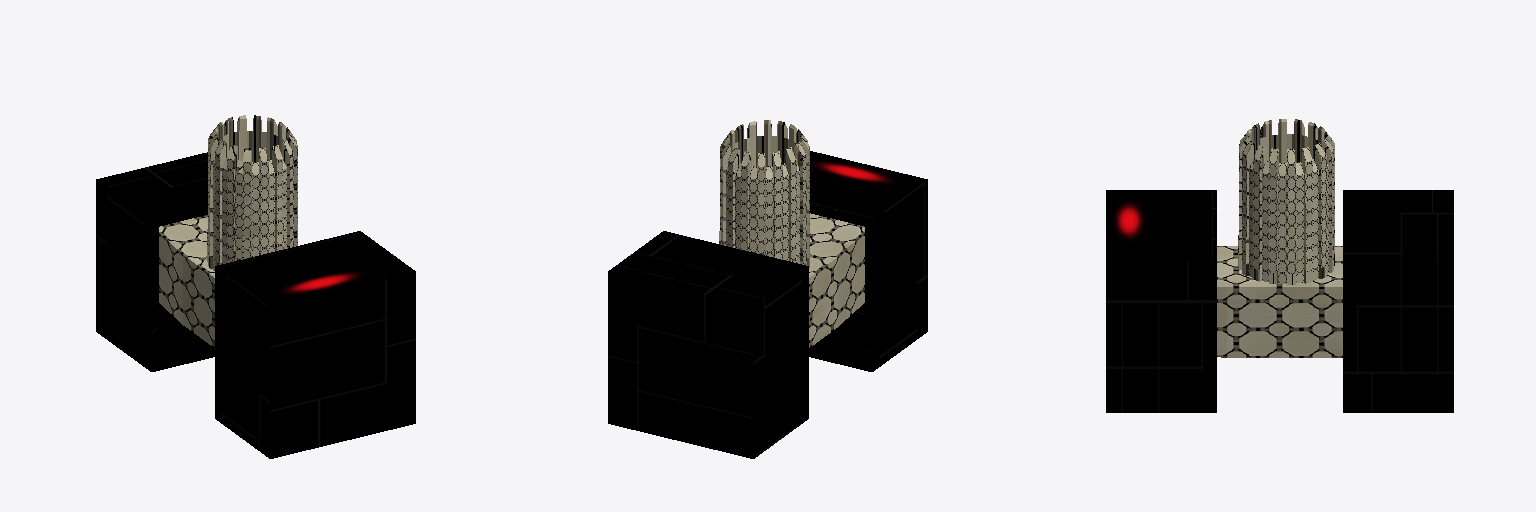
The picture shows the model from 3 angles: view 1: azimuth 30°, elevation 25°; view 2: azimuth 150°, elevation 25°; view 3: azimuth 270°, elevation 25°; orthographic projection.
Visible parts, largest first — view 1: Cube_Cube.001; view 2: Cube_Cube.001; view 3: Cube_Cube.001.
Part boxes in pixels (bbox=[...]): Cube_Cube.001: bbox=[96, 115, 415, 458]; Cube_Cube.001: bbox=[608, 120, 927, 458]; Cube_Cube.001: bbox=[1106, 119, 1453, 412].
Bounding box in the file's own units: 2 × 3.2 × 4.14.
Materials: 2 (2 with a texture image).